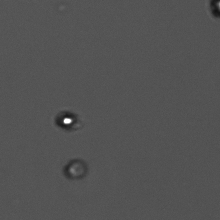Dead Cell: (61, 153, 91, 183)
Living Cell: (51, 107, 82, 134)
